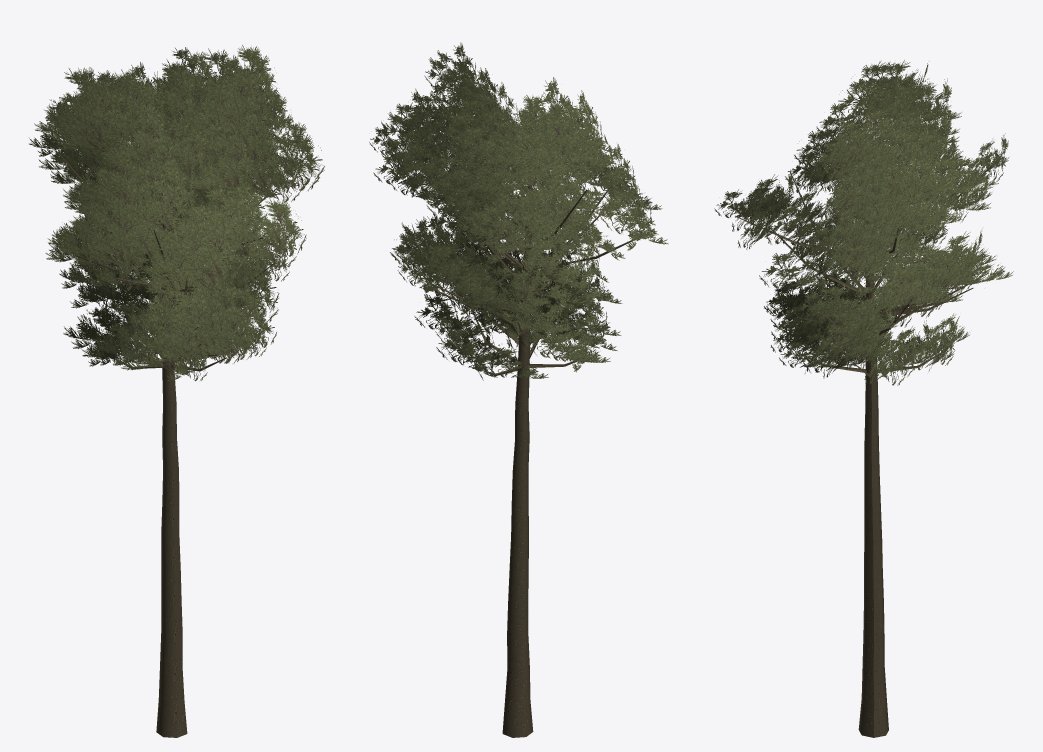
Rendered from SM_Pine_02_LOD.gltf.
3 views of the same model, side by side, from view 1: azimuth 30°, elevation 25°; view 2: azimuth 150°, elevation 25°; view 3: azimuth 270°, elevation 25° (orthographic). The views are drawn at different scales.
Visible parts, largest first — view 1: SM_Pine_02_LOD; view 2: SM_Pine_02_LOD; view 3: SM_Pine_02_LOD.
Boxes of the visible parts, <box> form: SM_Pine_02_LOD: <box>29,45,324,737</box>; SM_Pine_02_LOD: <box>369,42,668,737</box>; SM_Pine_02_LOD: <box>714,60,1013,737</box>.
Size of the model in its own units: 9.15 by 19.84 by 8.64.
2 materials, 2 textured.
